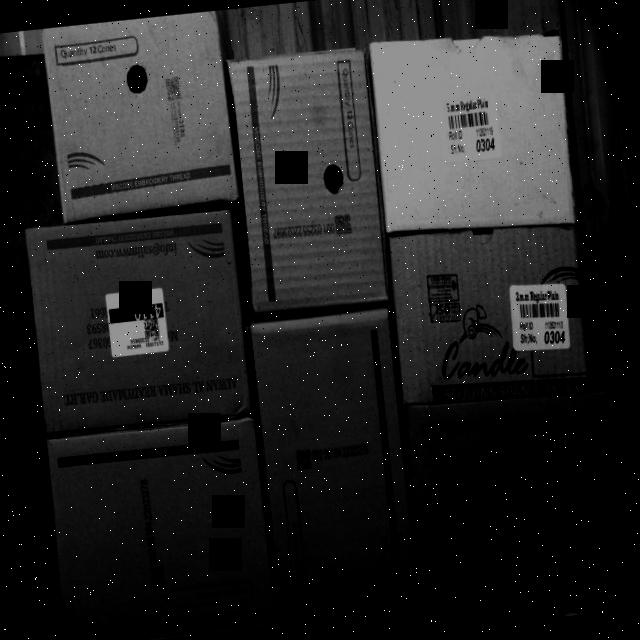box: (400, 384, 626, 630), (35, 409, 275, 640), (247, 311, 419, 632), (25, 213, 252, 432), (368, 21, 576, 244), (227, 47, 389, 326), (35, 11, 239, 228), (389, 216, 601, 410)
